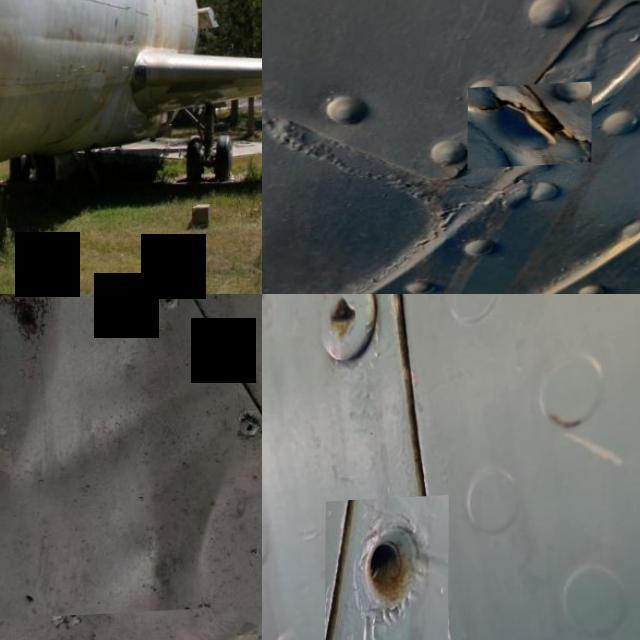Crack: (468, 86, 592, 172)
Dent: (0, 294, 262, 623)
Missing_Fastener: (325, 498, 449, 640)
